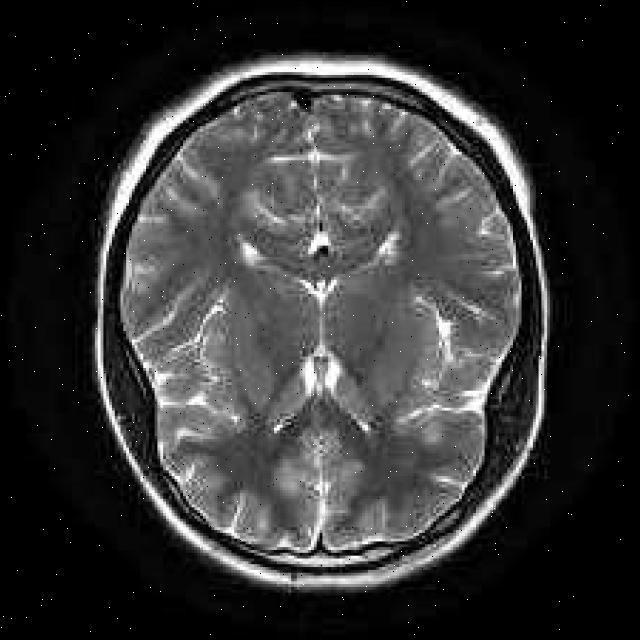No_Tumor: (95, 57, 549, 589)
